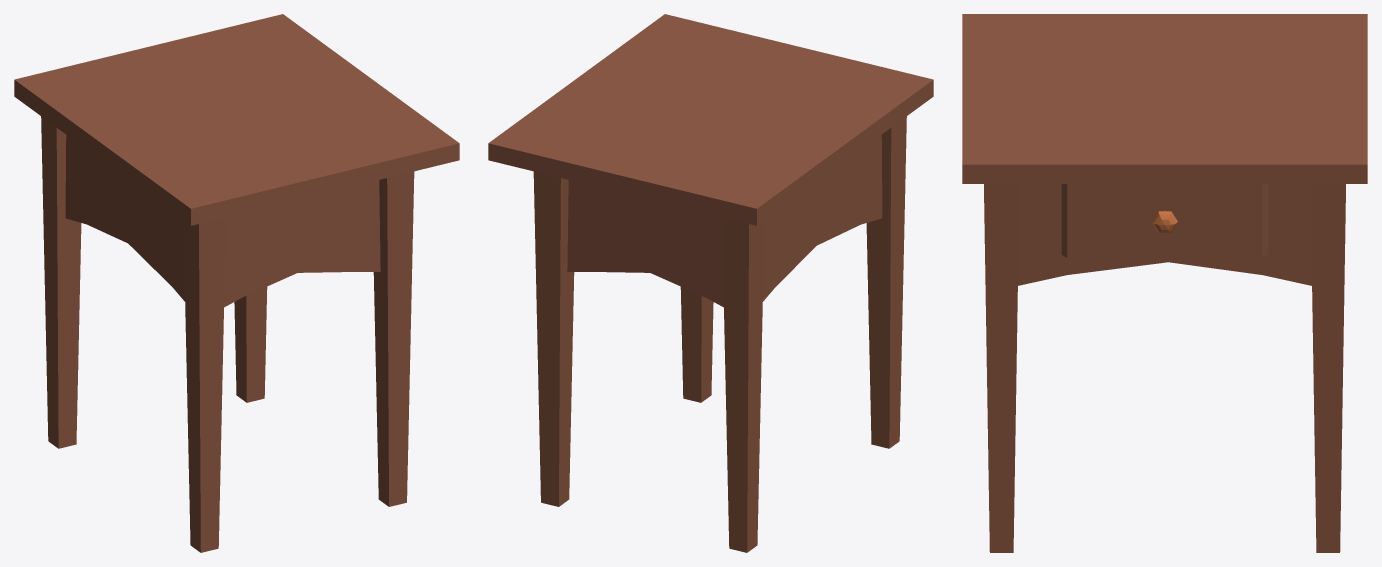
File: Mesa2.glb
3 renders of one model, left to right at view 1: azimuth 30°, elevation 25°; view 2: azimuth 150°, elevation 25°; view 3: azimuth 270°, elevation 25°, orthographic. The views are drawn at different scales.
Parts seen in each view (by area): view 1: Cubo.004, Cube, Cubo.001, Cubo, Cubo.002, Cubo.003; view 2: Cubo.004, Cube, Cubo.002, Cubo.003, Cubo.001, Cubo; view 3: Cubo.004, Cube, Cubo, Cubo.003.
Part boxes in pixels (<box>): Cubo.004: <box>14,14,459,225</box>; Cube: <box>65,135,380,307</box>; Cubo.001: <box>183,217,225,552</box>; Cubo: <box>373,171,414,506</box>; Cubo.002: <box>41,116,81,448</box>; Cubo.003: <box>234,287,267,402</box>; Cubo.004: <box>488,14,933,225</box>; Cube: <box>567,135,882,307</box>; Cubo.002: <box>722,217,764,552</box>; Cubo.003: <box>533,171,574,506</box>; Cubo.001: <box>866,116,906,448</box>; Cubo: <box>680,287,713,402</box>; Cubo.004: <box>962,14,1367,183</box>; Cube: <box>1018,184,1311,285</box>; Cubo: <box>984,184,1019,552</box>; Cubo.003: <box>1310,184,1345,552</box>.
Bounding box in the file's own units: 2.73 × 3.47 × 3.1.
